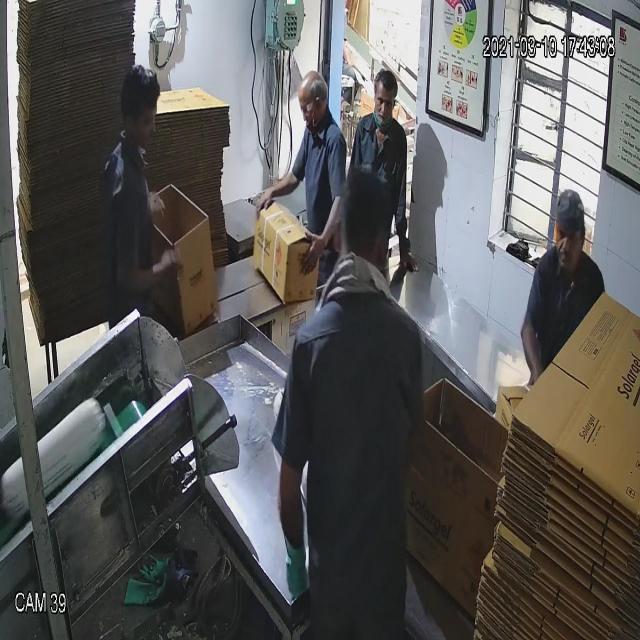No_Gloves: (38, 45, 532, 528)
